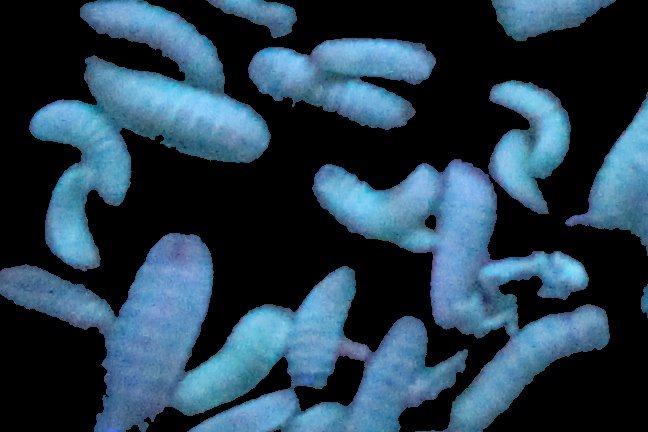larvae: (103, 235, 207, 424), (456, 307, 609, 432), (112, 63, 265, 164), (250, 51, 411, 126), (77, 1, 212, 78), (317, 166, 435, 250), (189, 308, 286, 405), (432, 161, 491, 320), (31, 91, 130, 185), (348, 318, 429, 432), (587, 91, 648, 238), (1, 257, 102, 335), (498, 79, 570, 169), (296, 266, 347, 389), (47, 168, 110, 266), (310, 36, 435, 84), (190, 384, 291, 432), (495, 133, 552, 214), (203, 1, 295, 36)
